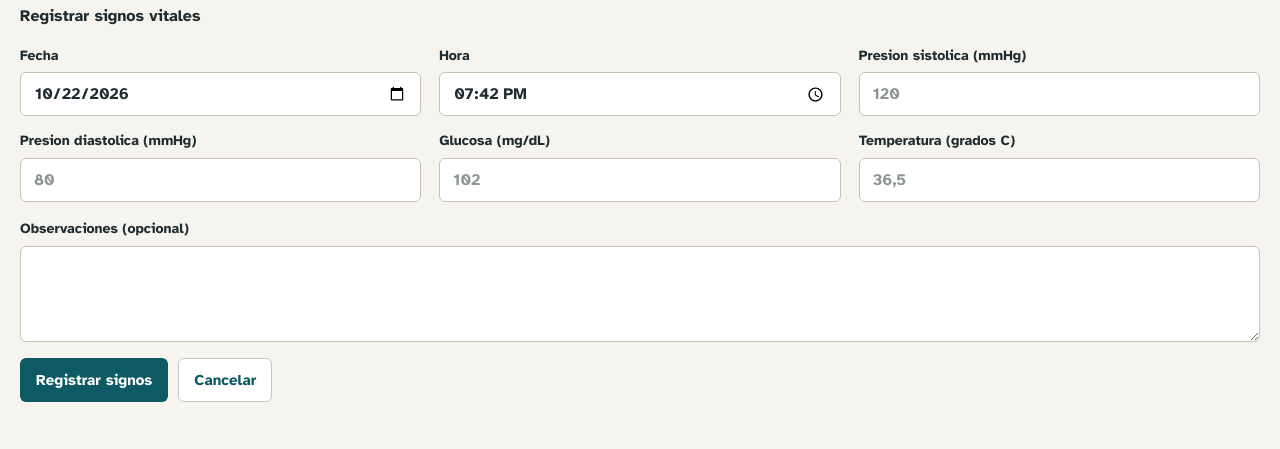
FormularioSignosVitales › rechaza una temperatura fuera de rango
In the field labelled "Temperatura (grados C)": (1059,180) [859,158,1260,202], type "50"
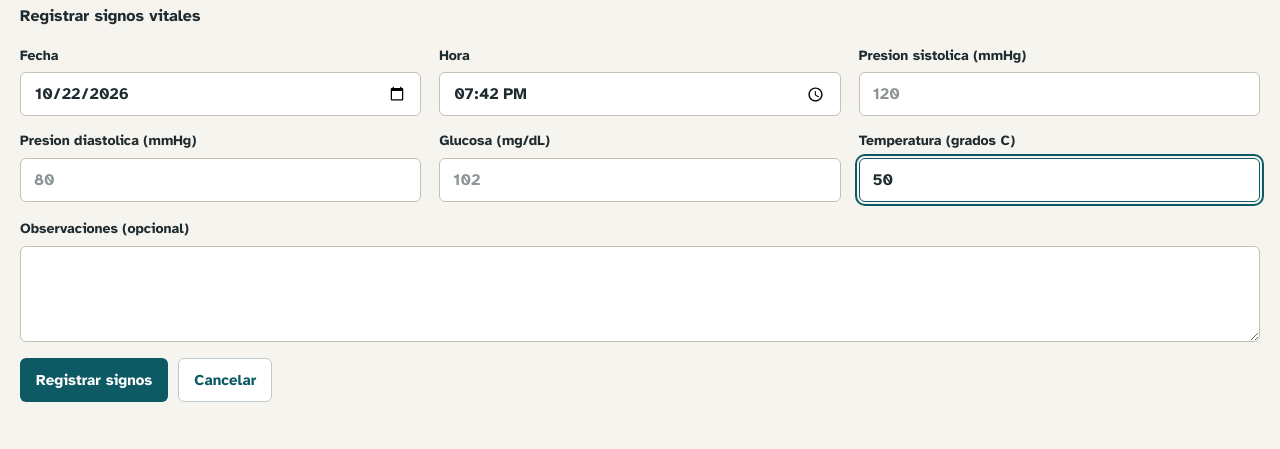
Click the button "Registrar signos": (94,380) [20,358,168,402]
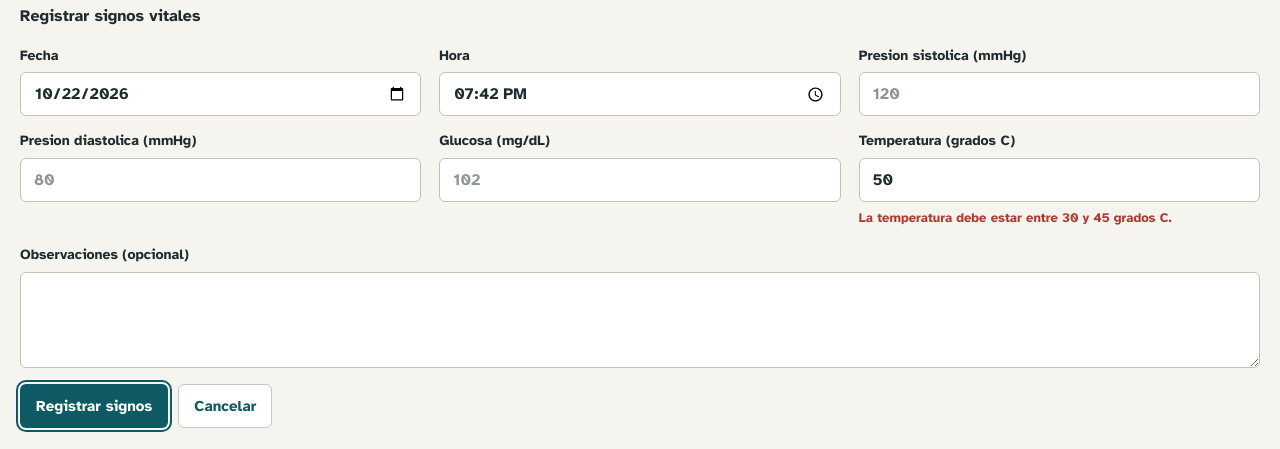
Expected: the text "La temperatura debe estar entre 30 y 45 grados C." is shown, [859,210,1172,226]
